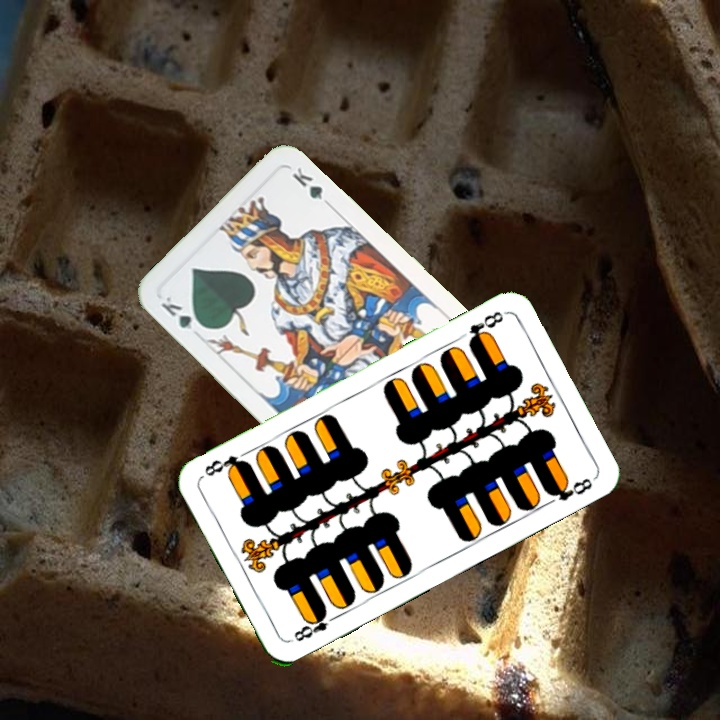E8: (289, 606, 341, 644), (464, 307, 508, 348)
GK: (157, 292, 209, 332)
